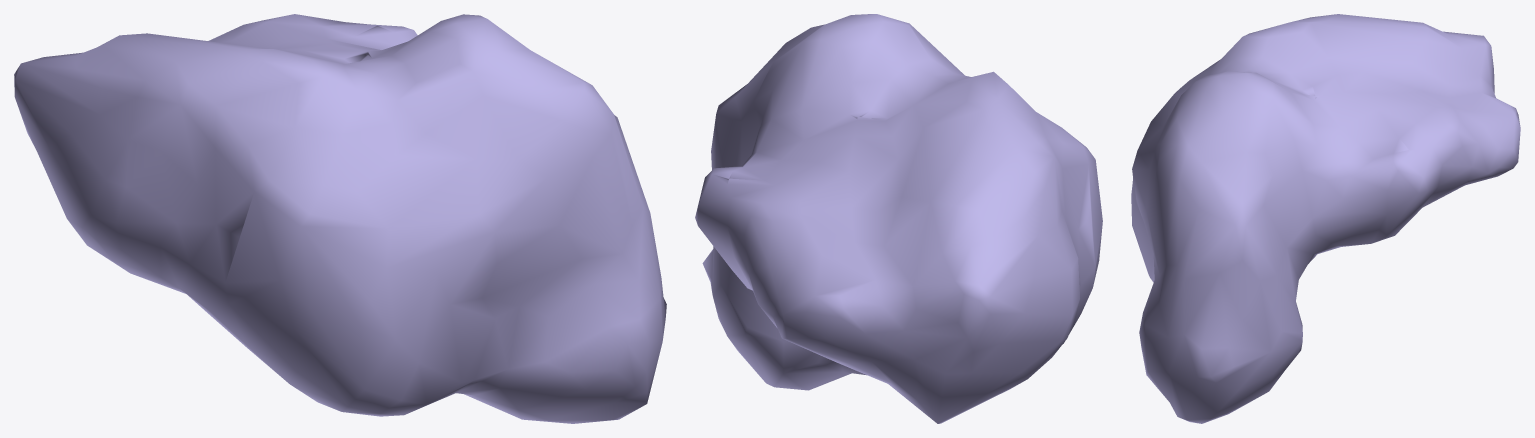
Rendered from MigrationRock2.fbx.
3 views of the same model, side by side, from view 1: azimuth 30°, elevation 25°; view 2: azimuth 150°, elevation 25°; view 3: azimuth 270°, elevation 25° (orthographic). The views are drawn at different scales.
Visible parts, largest first — view 1: WeirdRocks.001; view 2: WeirdRocks.001; view 3: WeirdRocks.001.
Part boxes in pixels (x1,y1,x2,y2): WeirdRocks.001: (14,14,666,423); WeirdRocks.001: (695,14,1102,423); WeirdRocks.001: (1131,14,1520,423).
Size of the model in its own units: 3020 by 2424 by 2805.
